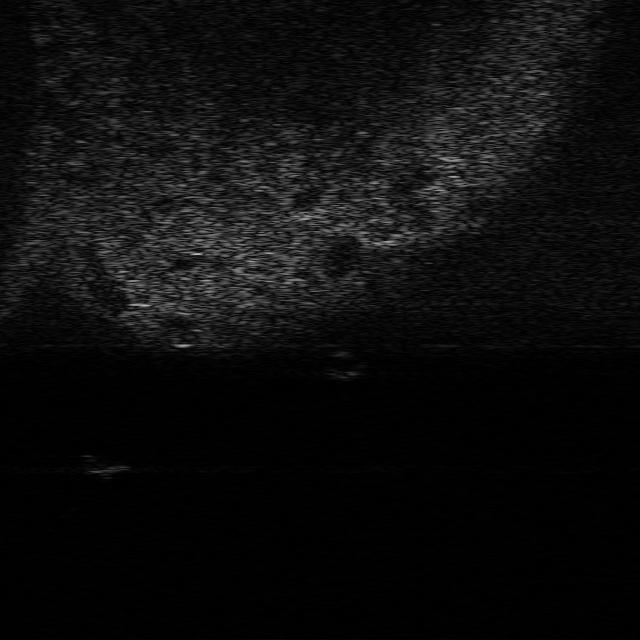ball: (317, 350, 365, 380)
cube: (81, 454, 134, 479)
